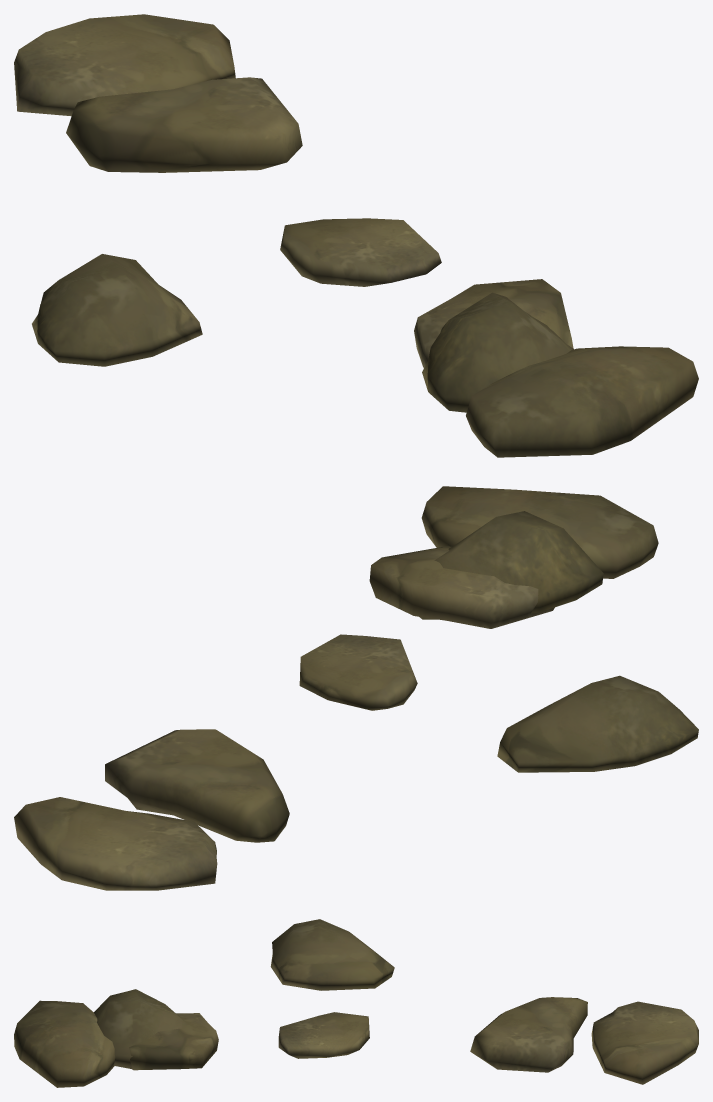
Rendered from WetlandsRocks_01.fbx.
3 views of the same model, one above another, from view 1: azimuth 30°, elevation 25°; view 2: azimuth 150°, elevation 25°; view 3: azimuth 270°, elevation 25° (orthographic). The views are drawn at different scales.
Visible parts, largest first — view 1: WetlandsRock_06, WetlandsRock_02, WetlandsRock_03, WetlandsRock_01, WetlandsRock_07, WetlandsRock_04, WetlandsRock_05; view 2: WetlandsRock_03, WetlandsRock_02, WetlandsRock_01, WetlandsRock_06, WetlandsRock_07, WetlandsRock_05, WetlandsRock_04; view 3: WetlandsRock_06, WetlandsRock_03, WetlandsRock_01, WetlandsRock_02, WetlandsRock_07, WetlandsRock_05, WetlandsRock_04.
Boxes of the visible parts, x1=… form: WetlandsRock_06: x1=466, y1=346, x2=698, y2=457; WetlandsRock_02: x1=66, y1=77, x2=302, y2=172; WetlandsRock_03: x1=14, y1=14, x2=235, y2=116; WetlandsRock_01: x1=32, y1=254, x2=202, y2=366; WetlandsRock_07: x1=422, y1=292, x2=573, y2=412; WetlandsRock_04: x1=280, y1=218, x2=441, y2=286; WetlandsRock_05: x1=414, y1=279, x2=573, y2=367; WetlandsRock_03: x1=14, y1=797, x2=217, y2=890; WetlandsRock_02: x1=105, y1=729, x2=289, y2=842; WetlandsRock_01: x1=497, y1=675, x2=698, y2=772; WetlandsRock_06: x1=421, y1=486, x2=658, y2=578; WetlandsRock_07: x1=419, y1=511, x2=603, y2=619; WetlandsRock_05: x1=369, y1=546, x2=554, y2=628; WetlandsRock_04: x1=299, y1=634, x2=417, y2=710; WetlandsRock_06: x1=14, y1=1000, x2=115, y2=1087; WetlandsRock_03: x1=591, y1=1001, x2=698, y2=1084; WetlandsRock_01: x1=270, y1=919, x2=394, y2=990; WetlandsRock_02: x1=470, y1=997, x2=587, y2=1072; WetlandsRock_07: x1=94, y1=989, x2=187, y2=1069; WetlandsRock_05: x1=129, y1=1013, x2=218, y2=1070; WetlandsRock_04: x1=278, y1=1012, x2=369, y2=1058.
Bounding box in the file's own units: 6.56 × 1.26 × 13.26.
1 material, 1 textured.
